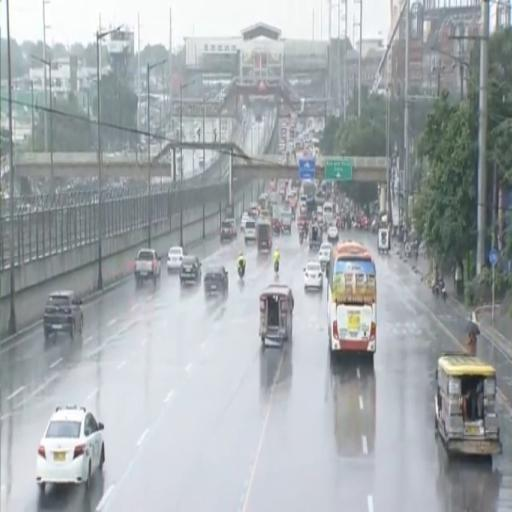bus: (327, 242, 376, 358)
car: (36, 406, 104, 492), (44, 291, 83, 340), (203, 266, 228, 295), (180, 255, 202, 284), (304, 262, 323, 290), (167, 247, 184, 273), (221, 219, 236, 242), (319, 243, 332, 269), (245, 219, 256, 243), (240, 212, 251, 231), (327, 226, 338, 243)
jeepney: (435, 352, 501, 455)
motorcycle: (238, 264, 246, 280), (441, 285, 446, 301), (274, 261, 279, 274), (300, 231, 303, 245)
truck: (135, 249, 160, 285)
